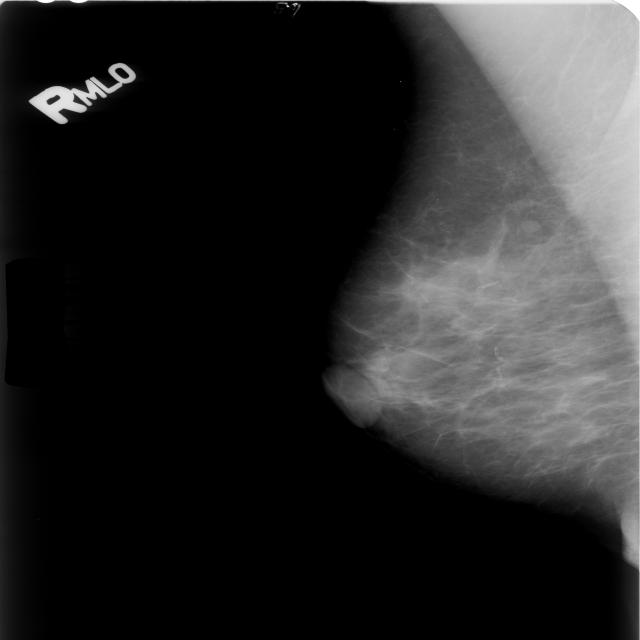cancer: (377, 233, 482, 421)
